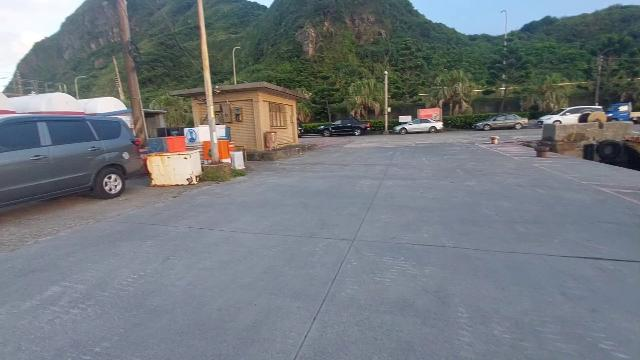pollute: (147, 149, 205, 187), (184, 124, 210, 163), (148, 136, 186, 154), (229, 151, 245, 169), (215, 124, 231, 140), (218, 141, 230, 162)
